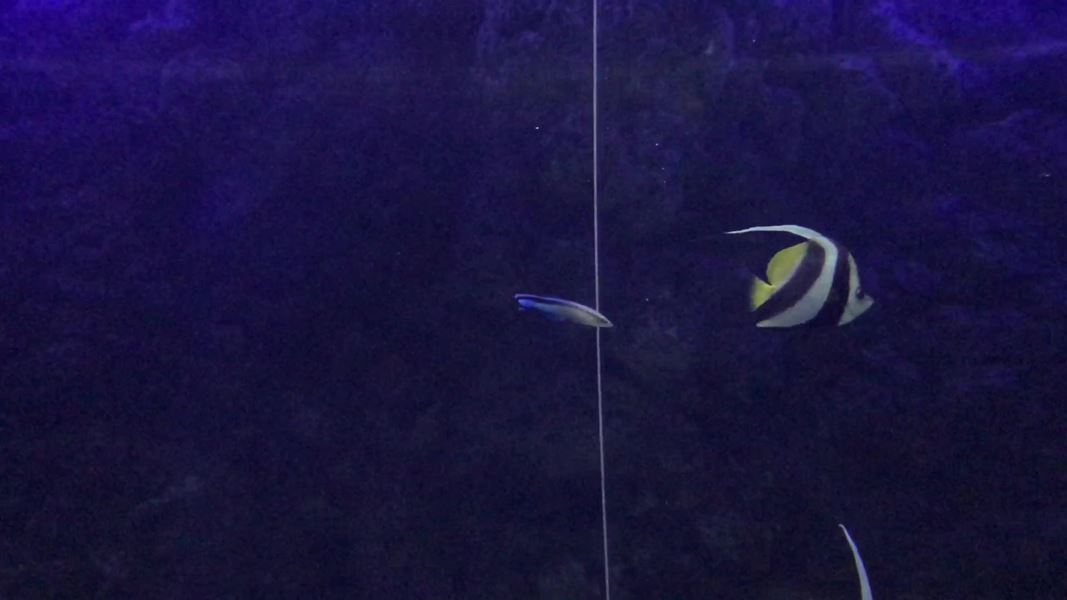Bluesteak cleaner wrasse: (509, 285, 624, 349)
